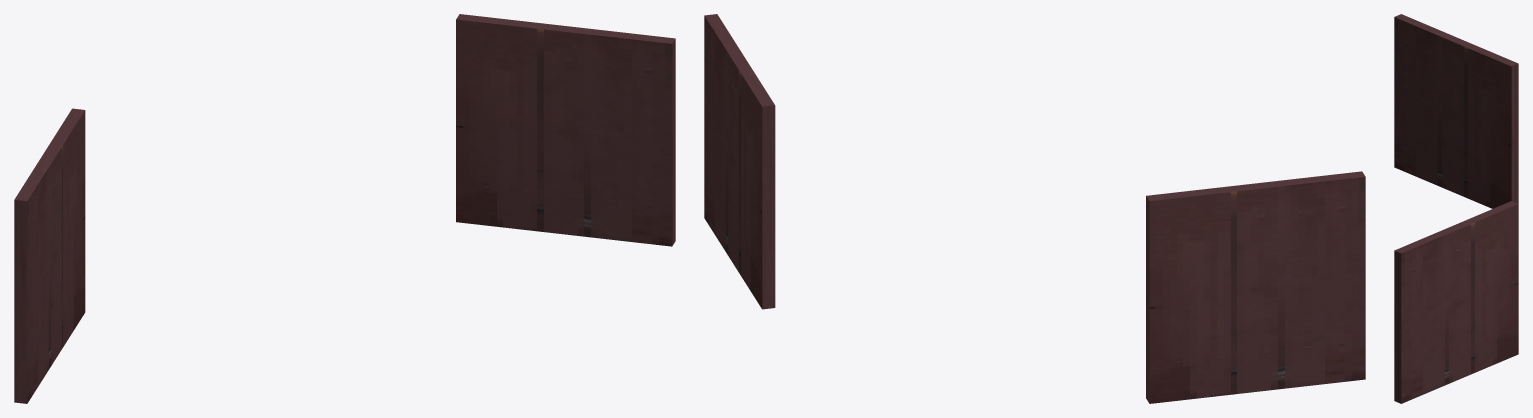
The model's file is shutters_small_double_open_02.glb.
The picture shows the model from 3 angles, left to right: view 1: azimuth 30°, elevation 25°; view 2: azimuth 150°, elevation 25°; view 3: azimuth 270°, elevation 25°; orthographic projection. The views are drawn at different scales.
Visible parts, largest first — view 1: shutters_small_double_open_022; view 2: shutters_small_double_open_022; view 3: shutters_small_double_open_022.
Part boxes in pixels (bbox=[...]): shutters_small_double_open_022: bbox=[14, 14, 675, 403]; shutters_small_double_open_022: bbox=[704, 14, 1365, 403]; shutters_small_double_open_022: bbox=[1394, 14, 1518, 403].
Bounding box in the file's own units: 3.41 × 1 × 0.7495.
Materials: 1 (1 with a texture image).
